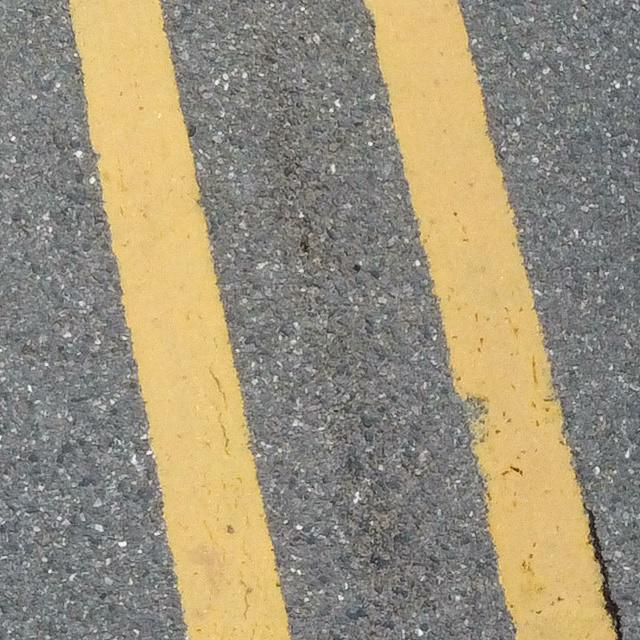LongitudinalCrack: (584, 500, 625, 639)
